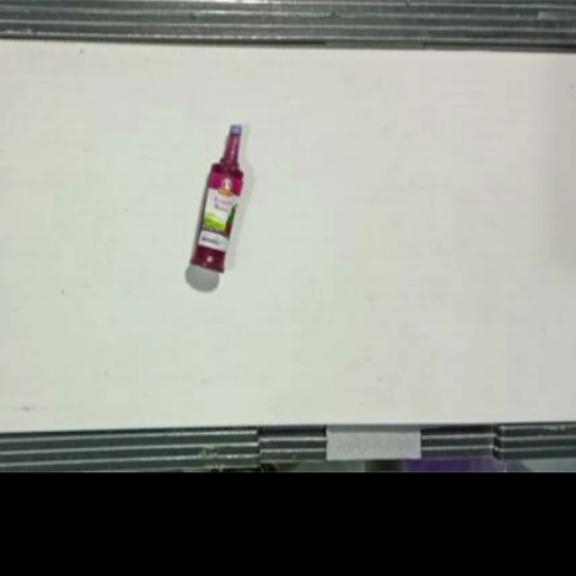Plastik: (189, 123, 246, 275)
